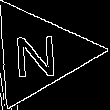N_N: (15, 27, 63, 80)
